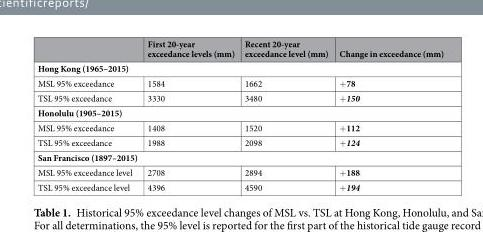table: (36, 37, 443, 192)
table column: (333, 37, 443, 192), (36, 37, 139, 192), (139, 37, 239, 192), (239, 37, 333, 192)
table column header: (36, 37, 443, 60)
table projected row header: (36, 60, 443, 75), (36, 104, 443, 119), (36, 149, 443, 164)
table row: (36, 37, 443, 60), (36, 60, 443, 75), (36, 75, 443, 90), (36, 104, 443, 119), (36, 119, 443, 134), (36, 134, 443, 149), (36, 149, 443, 164), (36, 164, 443, 179), (36, 90, 443, 104), (36, 179, 443, 192)
